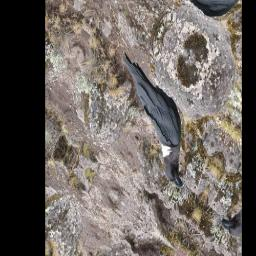Crow: (97, 49, 208, 192)
